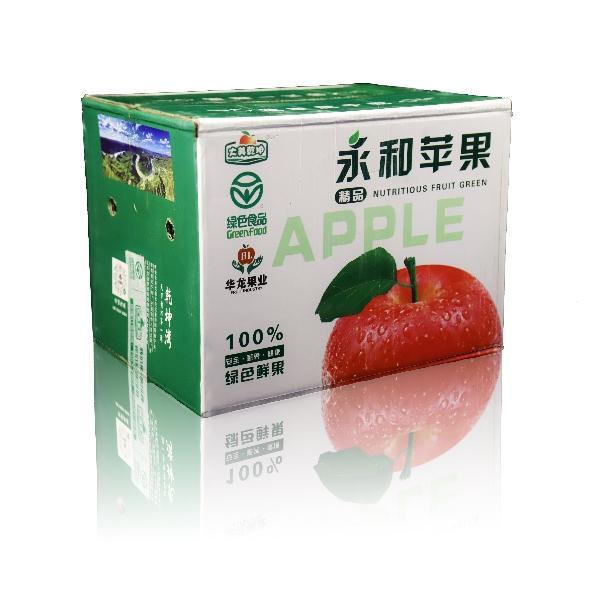apple: (320, 249, 504, 384)
